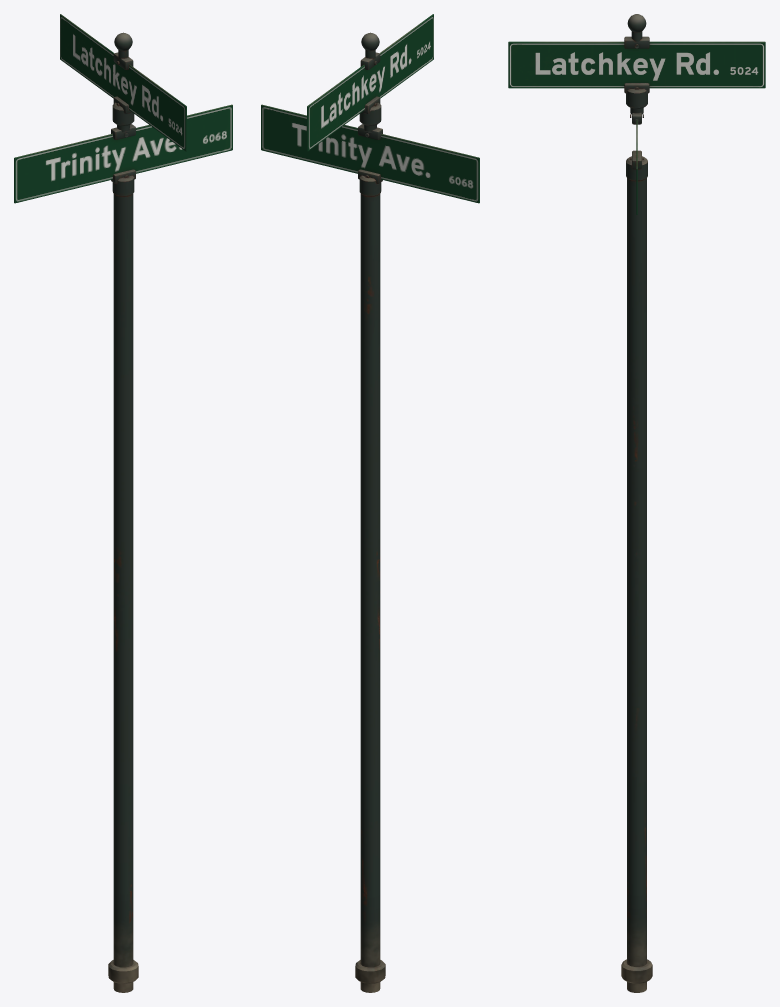
Rendered from street_sign.glb.
3 renders of one model, left to right at view 1: azimuth 30°, elevation 25°; view 2: azimuth 150°, elevation 25°; view 3: azimuth 270°, elevation 25°, orthographic.
Visible parts, largest first — view 1: street_sign; view 2: street_sign; view 3: street_sign.
Part boxes in pixels (x1,y1,x2,y2): street_sign: (14,14,232,992); street_sign: (261,14,479,992); street_sign: (508,14,765,992).
Bounding box in the file's own units: 0.7621 × 3.18 × 0.7621.
2 materials, 2 textured.
